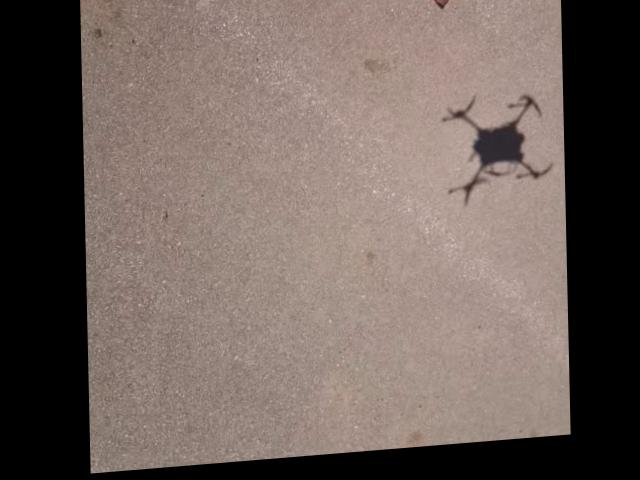fire-poster: (378, 0, 530, 21)
